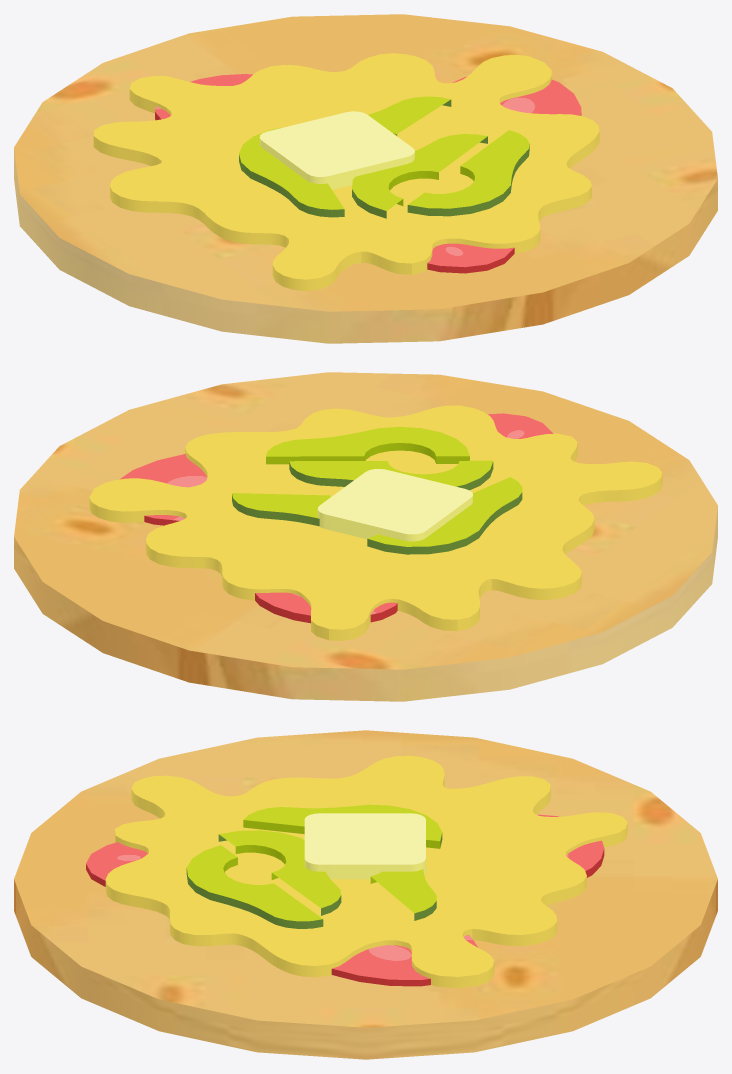
File: taco_Carne_Aguacate_Salsa.glb
The picture shows the model from 3 angles, top to bottom: view 1: azimuth 30°, elevation 25°; view 2: azimuth 150°, elevation 25°; view 3: azimuth 270°, elevation 25°; orthographic projection.
Visible parts, largest first — view 1: tortilla.002, Melted_Butter_Butter_0, Avocado_Slice_Avocado_0, Ham_Slice_Ham_0.002; view 2: tortilla.002, Melted_Butter_Butter_0, Avocado_Slice_Avocado_0, Ham_Slice_Ham_0.002; view 3: tortilla.002, Melted_Butter_Butter_0, Avocado_Slice_Avocado_0, Ham_Slice_Ham_0.002.
Boxes of the visible parts, x1,y1,x2,y2 form: tortilla.002: (14,14,717,343); Melted_Butter_Butter_0: (93,53,599,290); Avocado_Slice_Avocado_0: (239,96,529,218); Ham_Slice_Ham_0.002: (155,74,581,273); tortilla.002: (14,372,717,701); Melted_Butter_Butter_0: (89,405,662,640); Avocado_Slice_Avocado_0: (232,426,522,554); Ham_Slice_Ham_0.002: (120,413,552,623); tortilla.002: (14,730,717,1059); Melted_Butter_Butter_0: (105,755,627,988); Avocado_Slice_Avocado_0: (186,804,442,928); Ham_Slice_Ham_0.002: (86,814,604,986).
Bounding box in the file's own units: 0.2118 × 0.0192 × 0.2118.
Materials: 4 (4 with a texture image).
